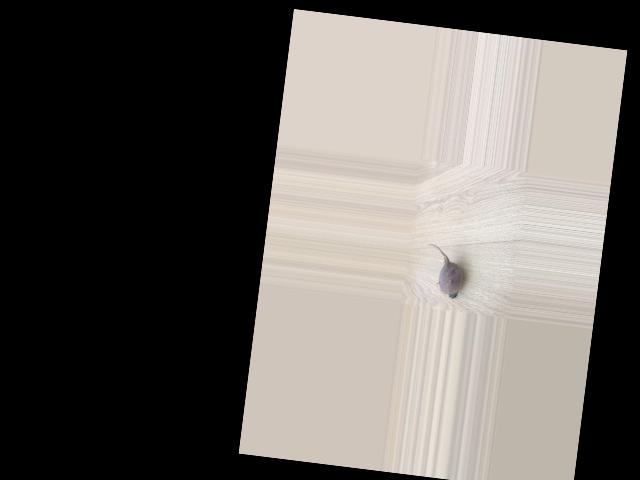beet: (422, 242, 467, 298)
